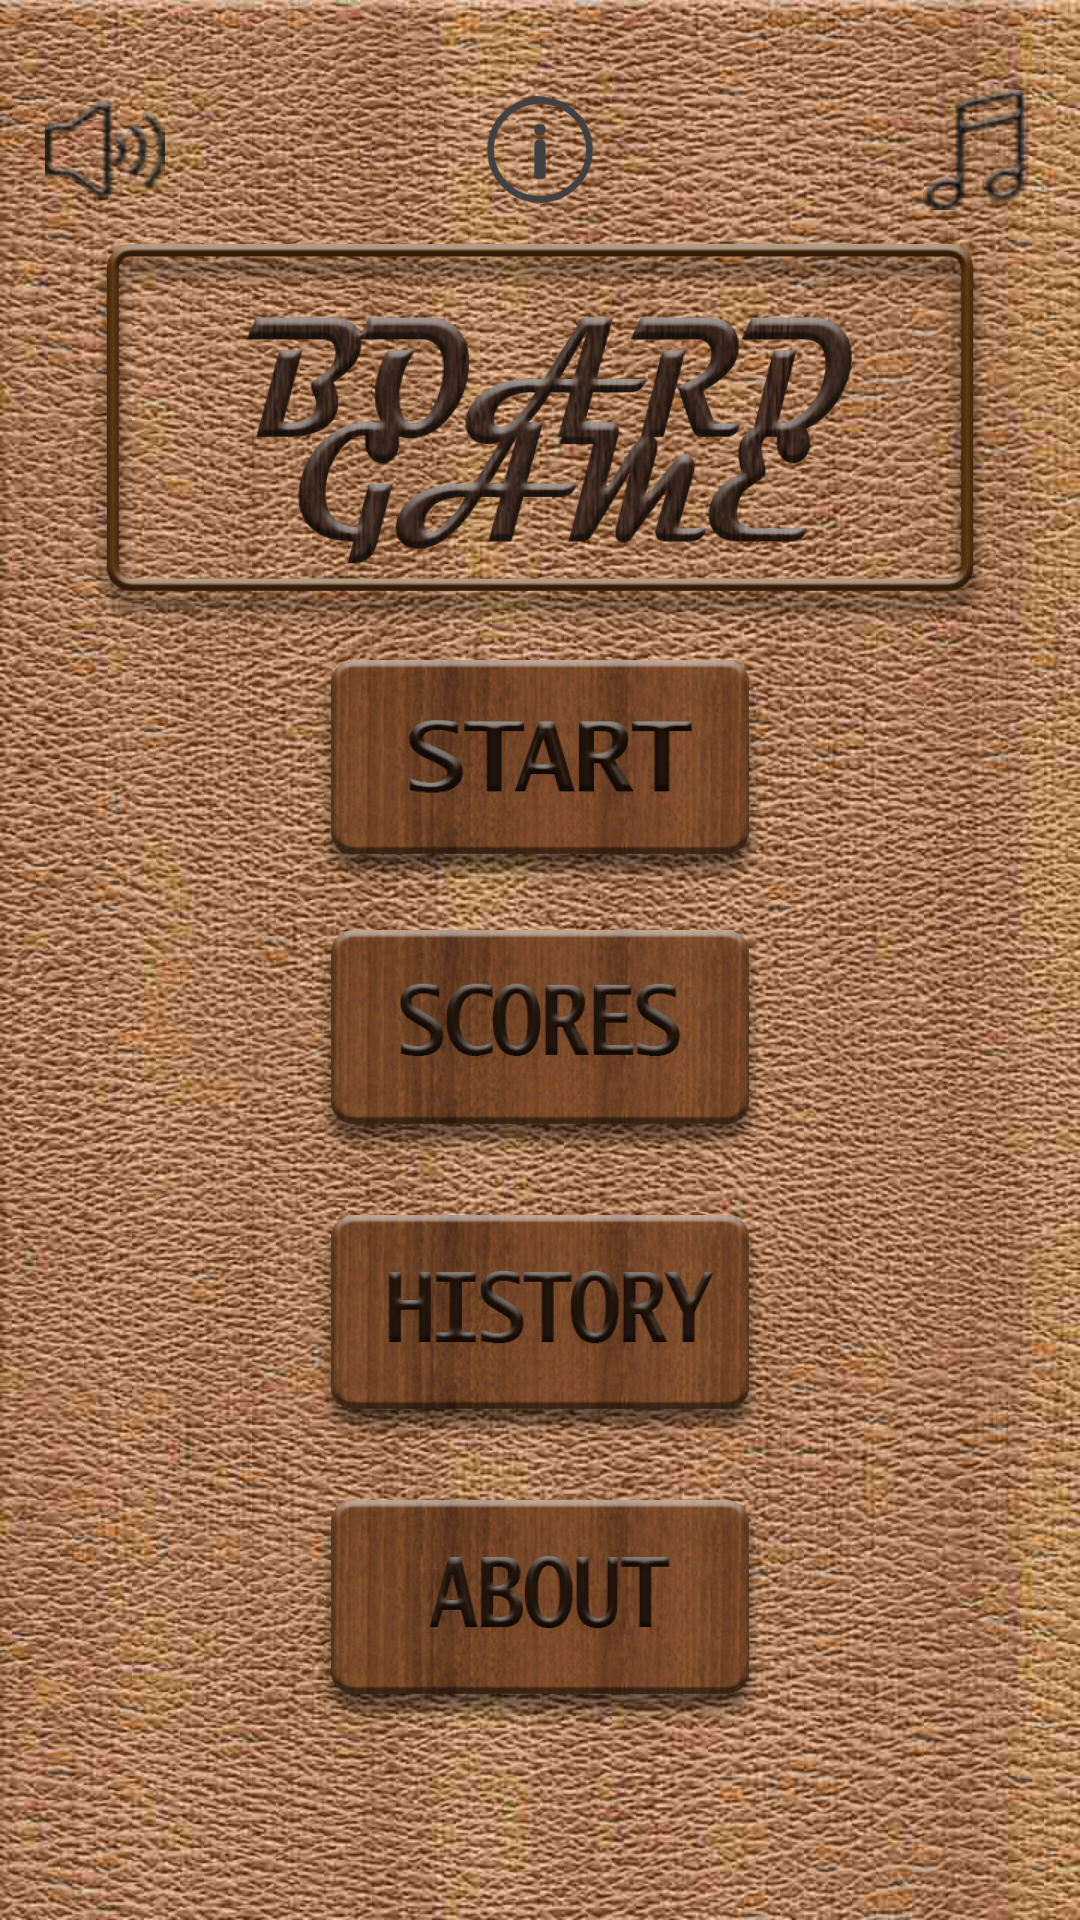

Icons on this 1080 × 1920 Android screen, each with the point to tap as (x=x, y=y):
info: (x=540, y=150)
music on: (x=975, y=150)
sound on: (x=105, y=150)
